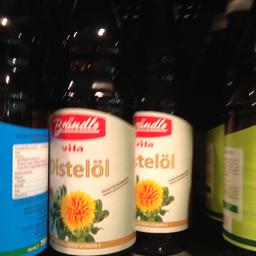oil: (49, 1, 135, 255), (130, 4, 193, 242)
